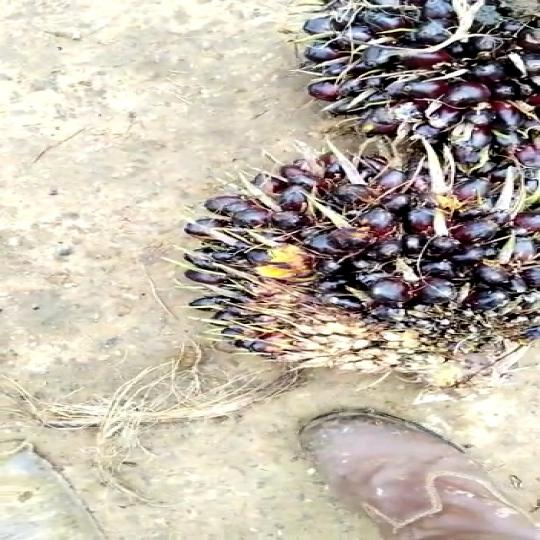mentah: (176, 140, 540, 382), (280, 0, 540, 180)
